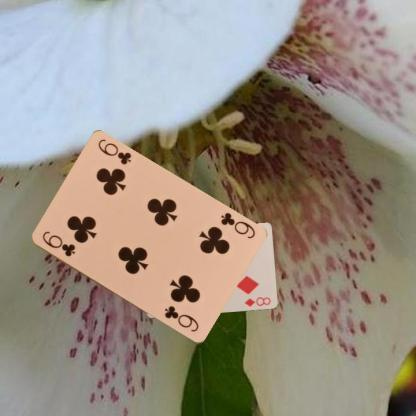6c: (217, 209, 257, 240), (38, 228, 76, 258)
